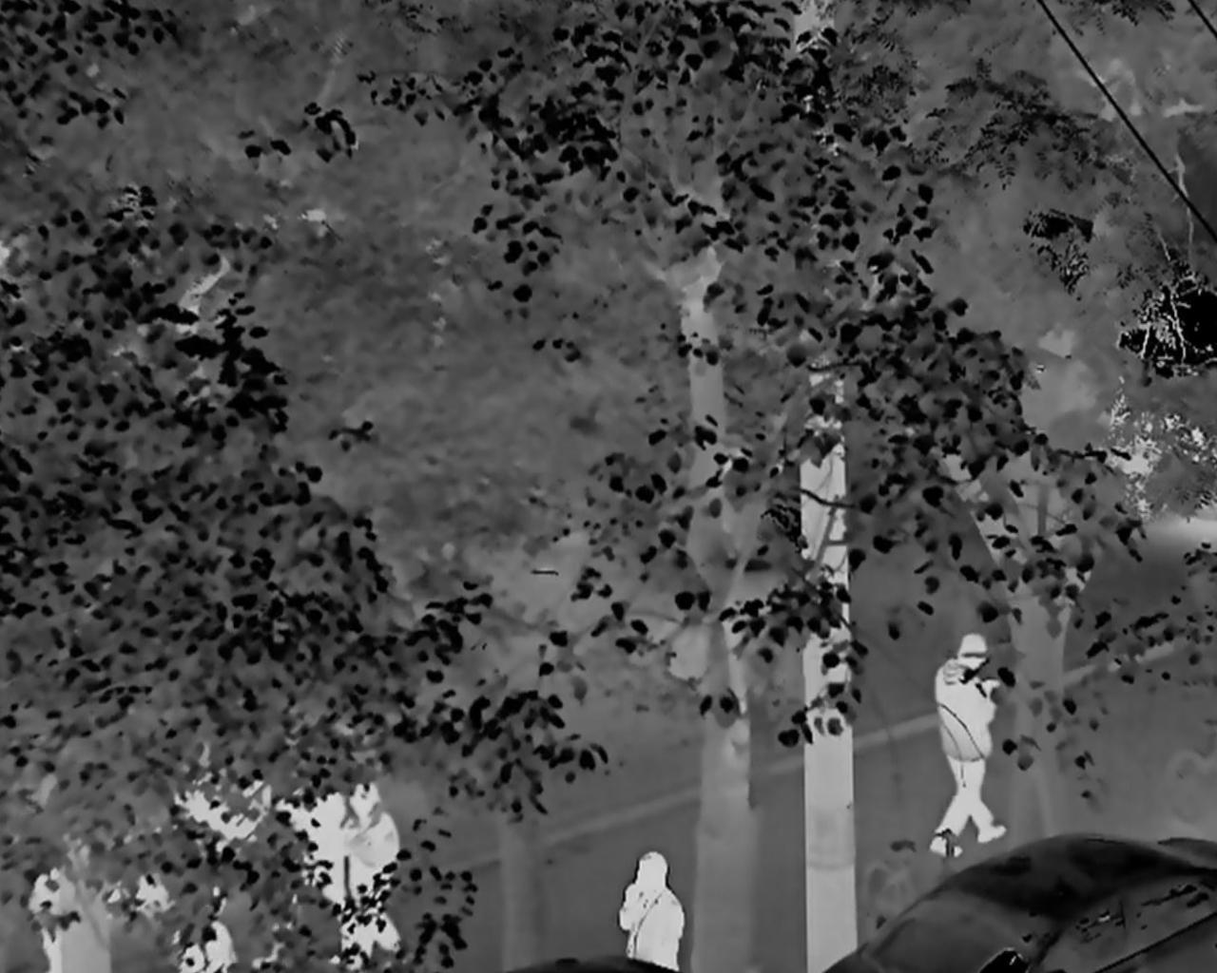person: (931, 631, 1010, 862), (346, 778, 398, 962), (621, 851, 684, 973)
